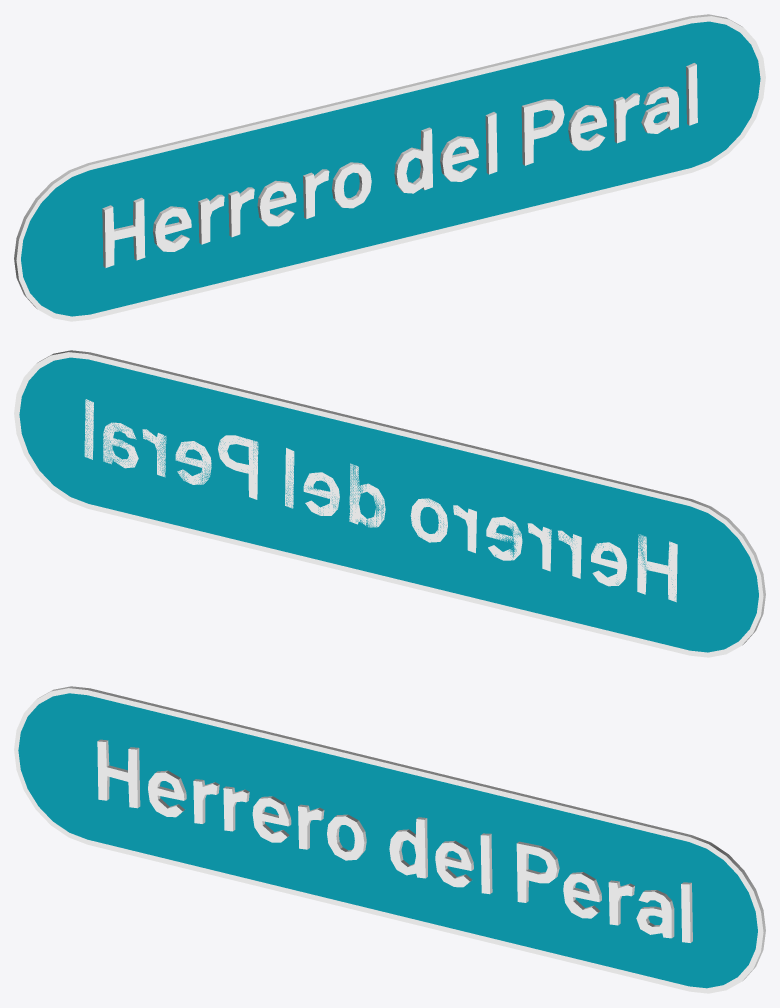
Rendered from herrerodelperaOBJ.obj.
The picture shows the model from 3 angles, top to bottom: view 1: azimuth 30°, elevation 25°; view 2: azimuth 150°, elevation 25°; view 3: azimuth 330°, elevation 25°; orthographic projection.
Visible parts, largest first — view 1: Entorno_53_Entorno_1__24046_, Texto_de_modelo_Texto_de_modelo_10__24034_, Entorno_54_Entorno_1__24058_; view 2: Entorno_53_Entorno_1__24046_, Texto_de_modelo_Texto_de_modelo_10__24034_, Entorno_54_Entorno_1__24058_; view 3: Entorno_53_Entorno_1__24046_, Texto_de_modelo_Texto_de_modelo_10__24034_, Entorno_54_Entorno_1__24058_.
Boxes of the visible parts, x1,y1,x2,y2 form: Entorno_53_Entorno_1__24046_: [21, 21, 760, 316]; Texto_de_modelo_Texto_de_modelo_10__24034_: [102, 63, 697, 267]; Entorno_54_Entorno_1__24058_: [14, 14, 765, 321]; Entorno_53_Entorno_1__24046_: [19, 357, 758, 652]; Texto_de_modelo_Texto_de_modelo_10__24034_: [84, 399, 677, 602]; Entorno_54_Entorno_1__24058_: [14, 350, 765, 657]; Entorno_53_Entorno_1__24046_: [18, 693, 757, 988]; Texto_de_modelo_Texto_de_modelo_10__24034_: [97, 739, 692, 942]; Entorno_54_Entorno_1__24058_: [14, 686, 765, 993].
Size of the model in its own units: 52.69 by 10.39 by 0.6.
